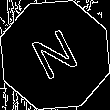N_SE: (26, 23, 84, 87)
